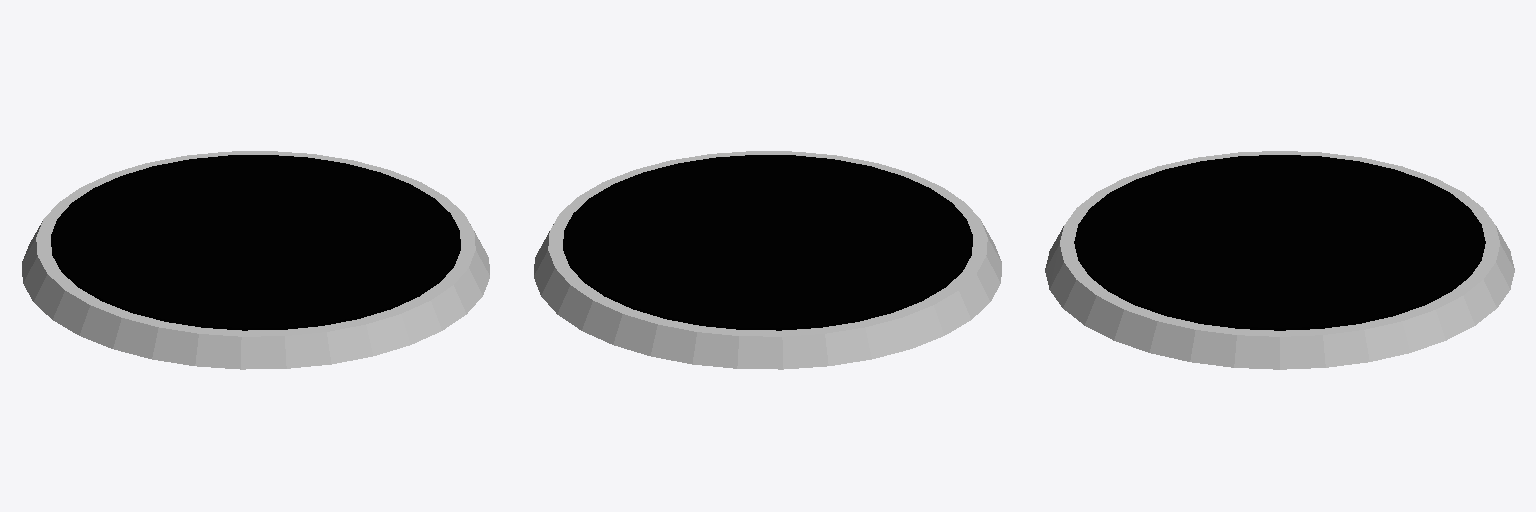
3 views of the same model, side by side, from view 1: azimuth 30°, elevation 25°; view 2: azimuth 150°, elevation 25°; view 3: azimuth 270°, elevation 25° (orthographic).
Visible parts, largest first — view 1: base.center, base.ring; view 2: base.center, base.ring; view 3: base.center, base.ring.
Part boxes in pixels (bbox=[...]): base.center: bbox=[51, 155, 460, 330]; base.ring: bbox=[22, 151, 489, 369]; base.center: bbox=[563, 155, 972, 330]; base.ring: bbox=[534, 151, 1001, 369]; base.center: bbox=[1074, 155, 1485, 330]; base.ring: bbox=[1045, 151, 1514, 369].
Size of the model in its own units: 1 by 0.068 by 1.